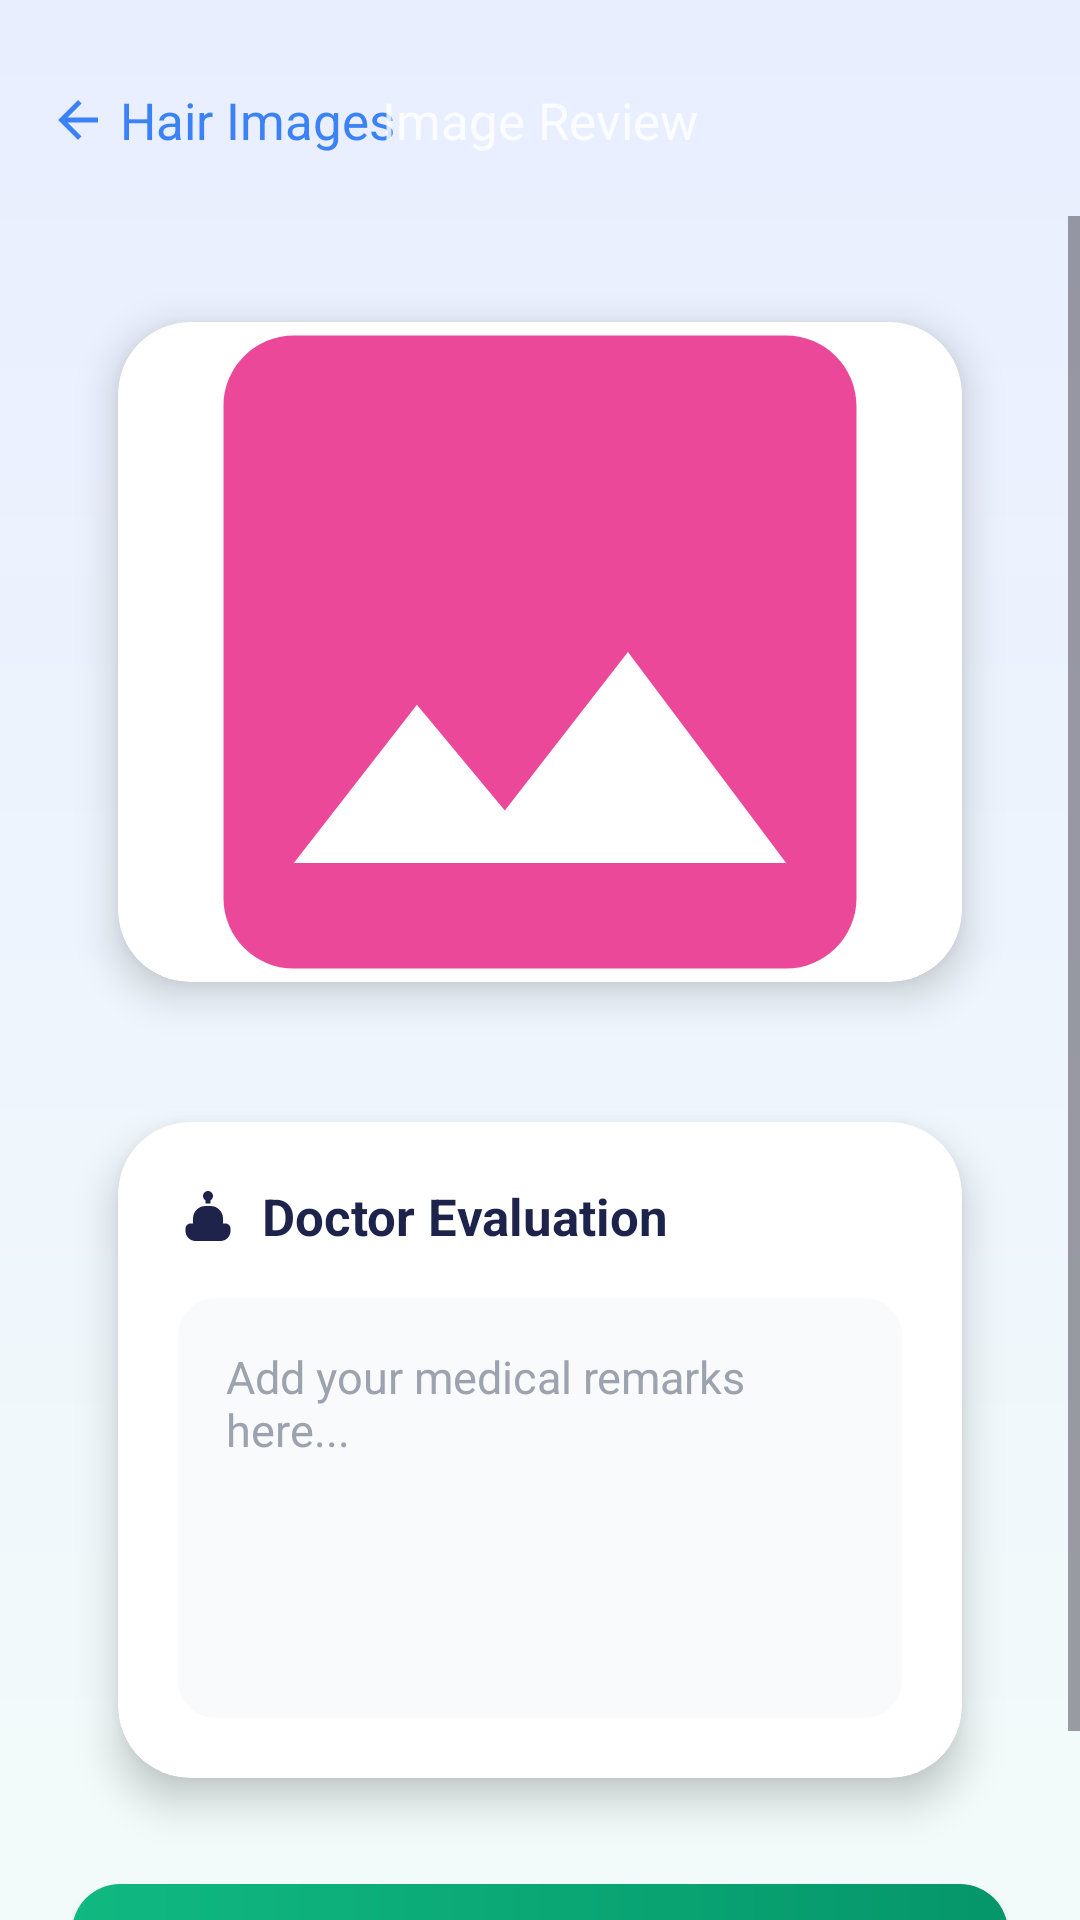

Screen size 1080 x 1920. Icon name, then its box in pixels as (x1, y1, x2, y2):
back: (58, 100, 98, 140)
